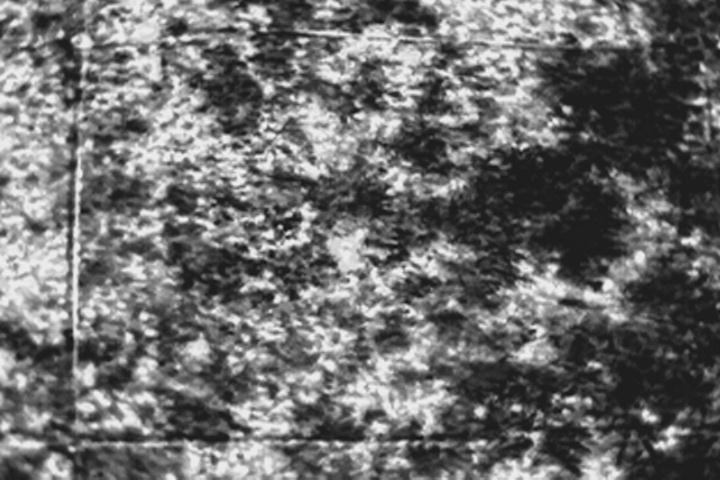landmine: (326, 228, 370, 273)
